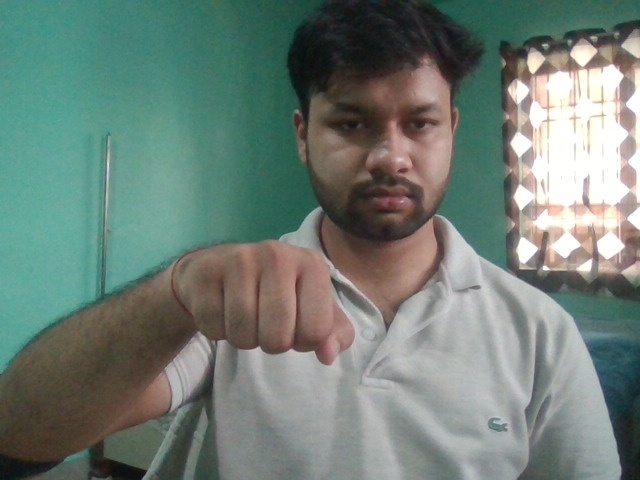Yes: (166, 239, 364, 368)
